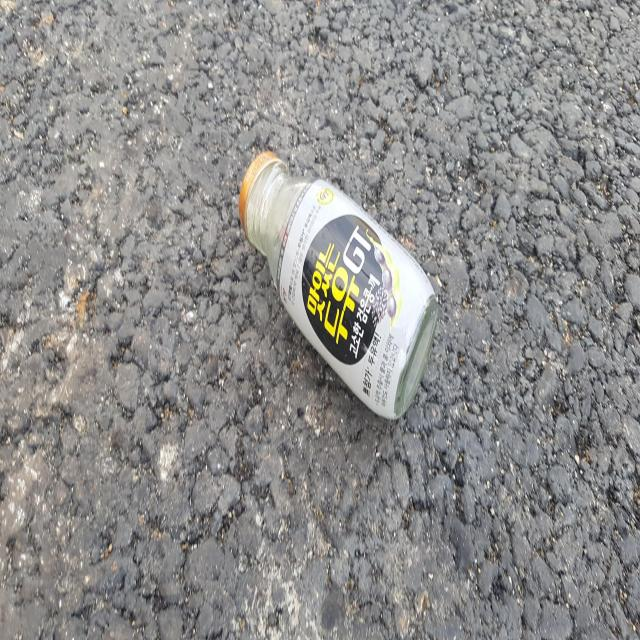glass: (239, 151, 438, 418)
